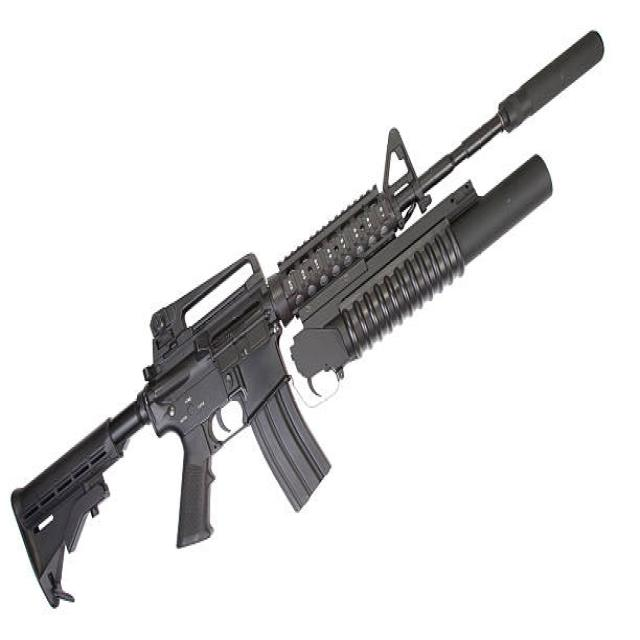rifle: (8, 24, 608, 624)
